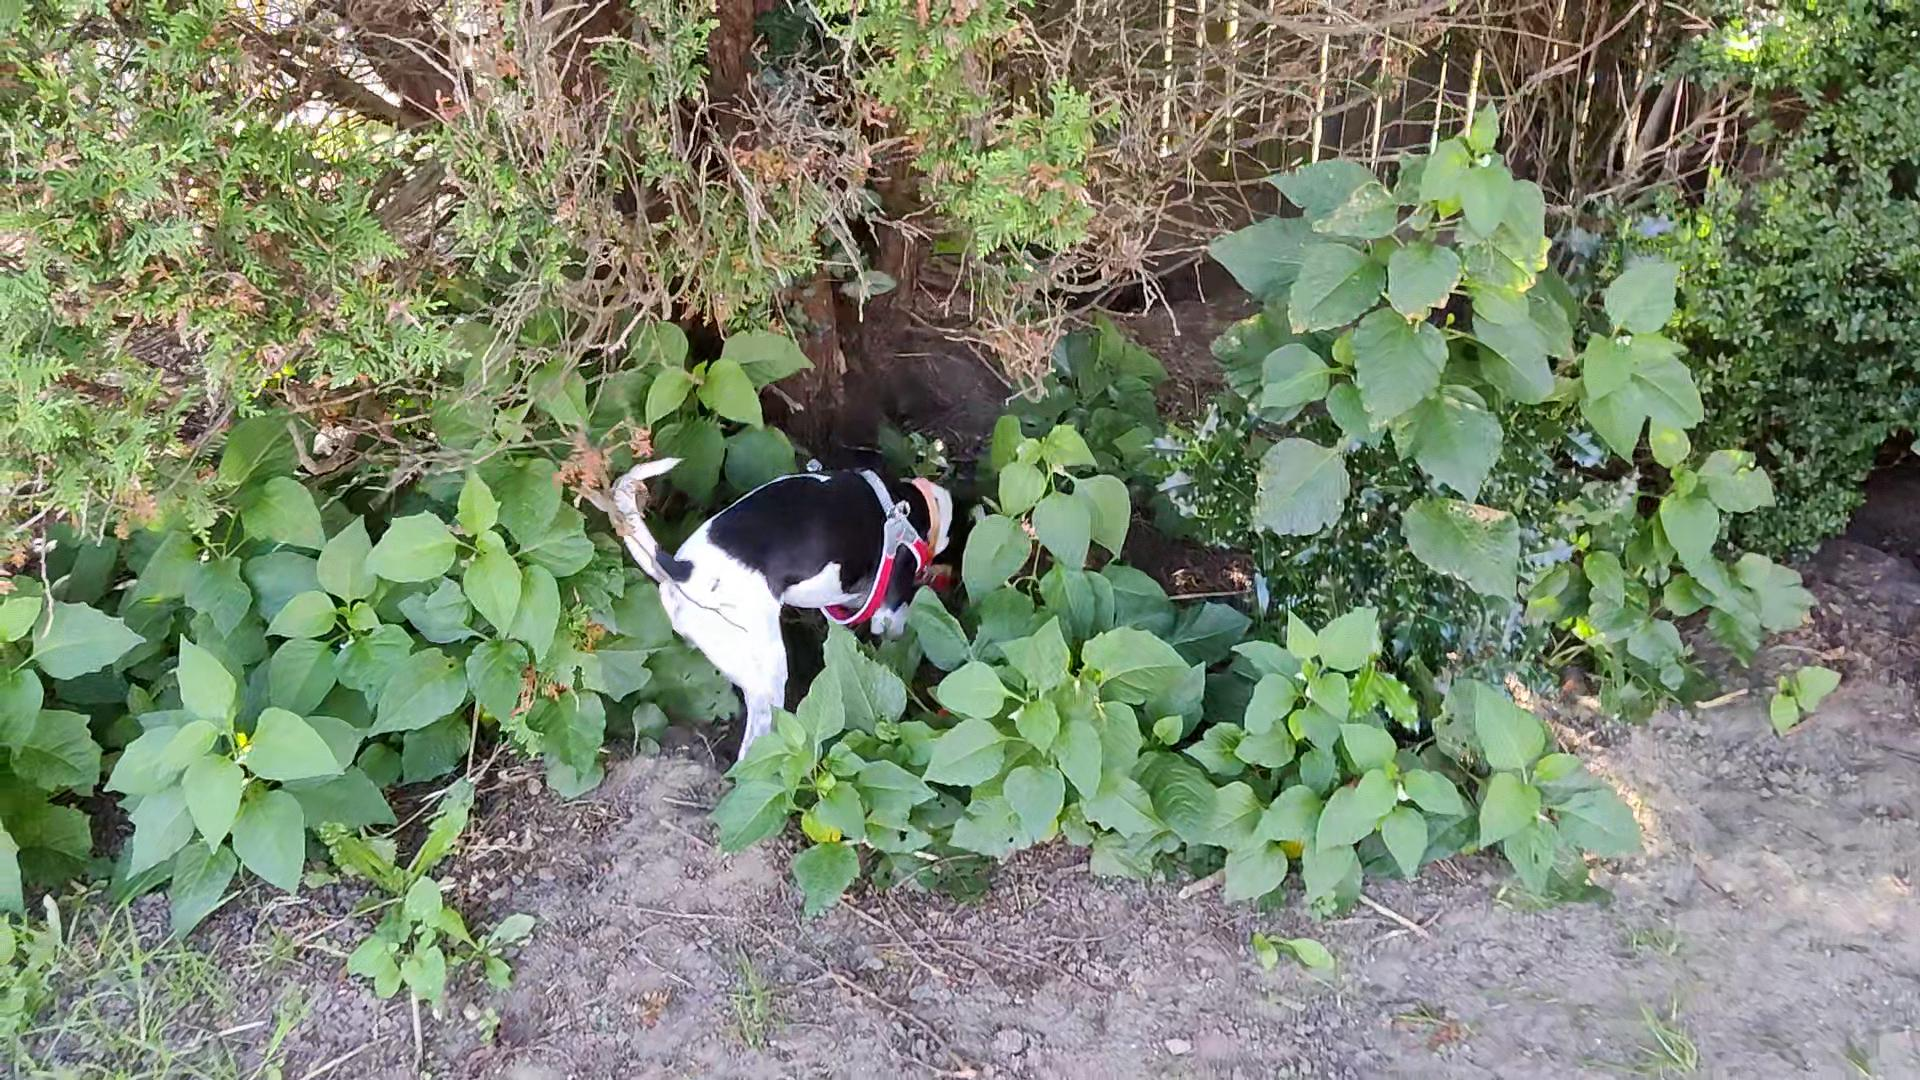Dog: (601, 436, 992, 795)
